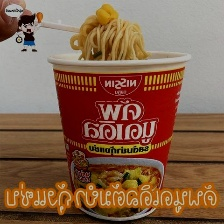paper_cup: (41, 46, 196, 224)
